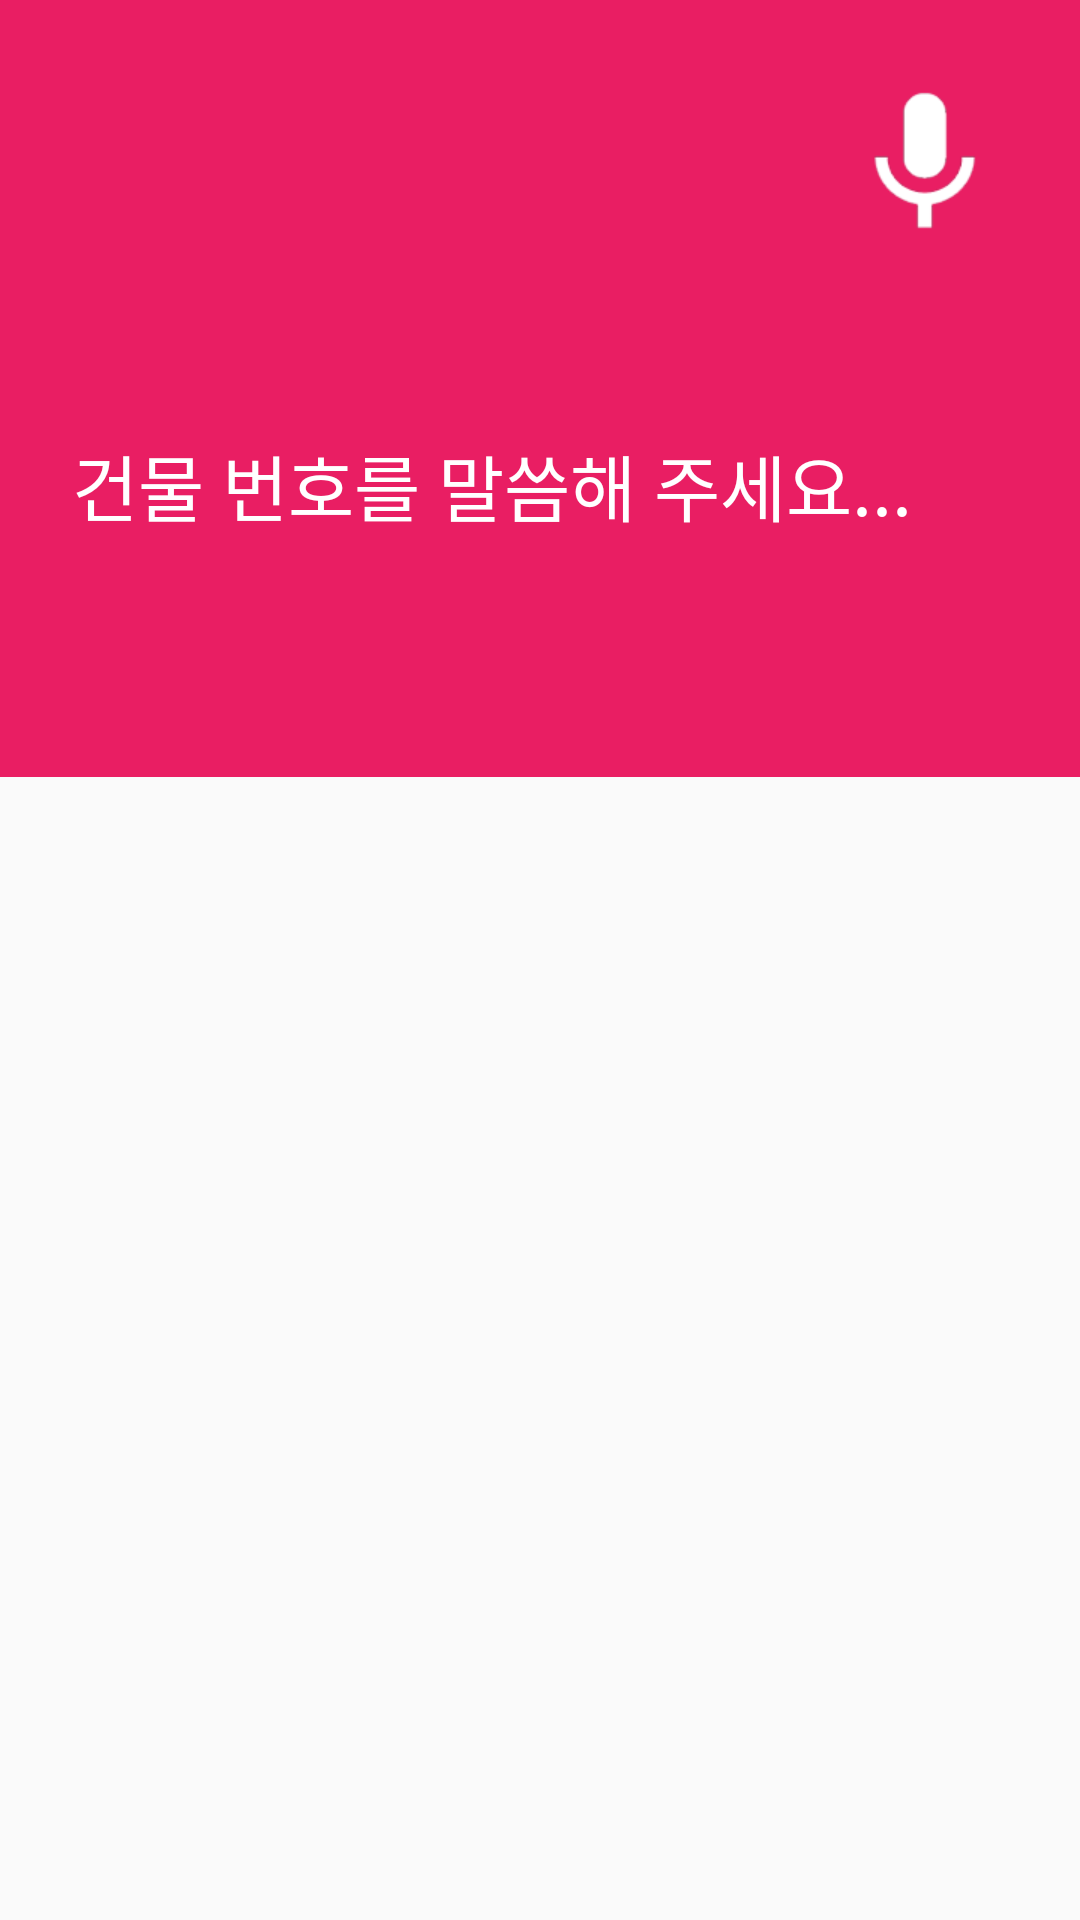

Point at icon controls on the screen. Image size 1080w x 1920h, points as point (x, y).
mic: point (924, 160)
